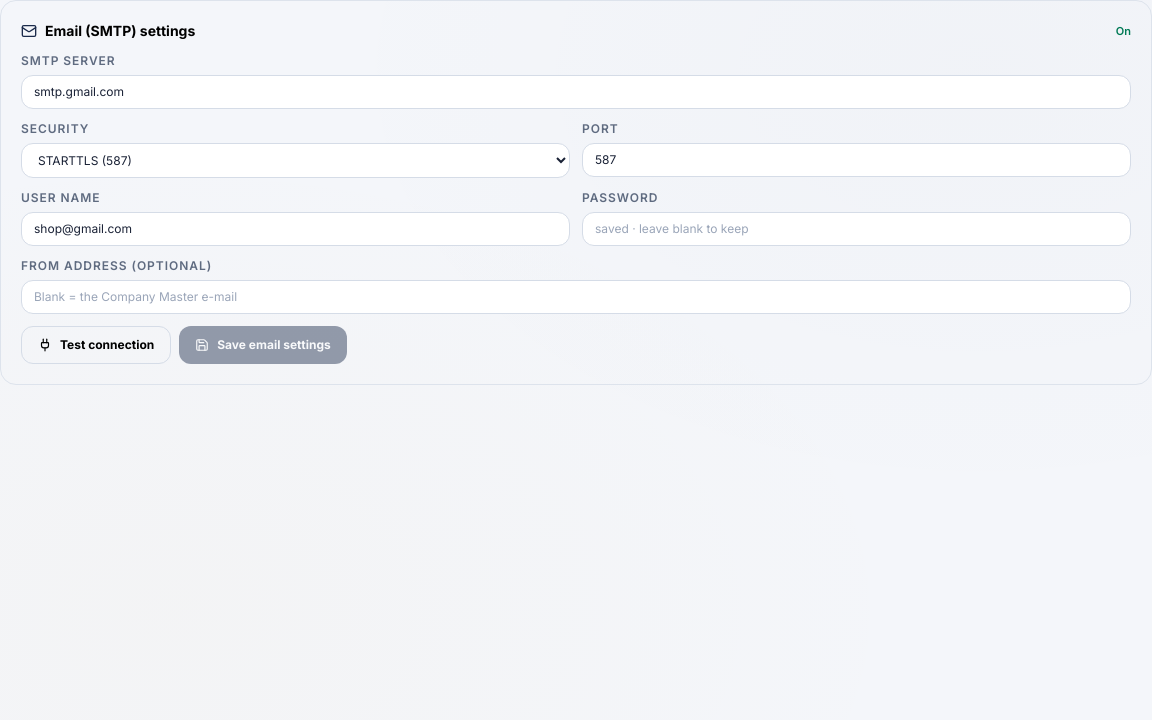
it: SmtpSetting › checks the port and the from address before sending anything
Expected: the field showing "smtp.gmail.com" is shown, [21,75,1131,109]
Type "not-an-email" into the field labelled "From address (optional)" at {"x": 576, "y": 297}, box [21,280,1131,314]
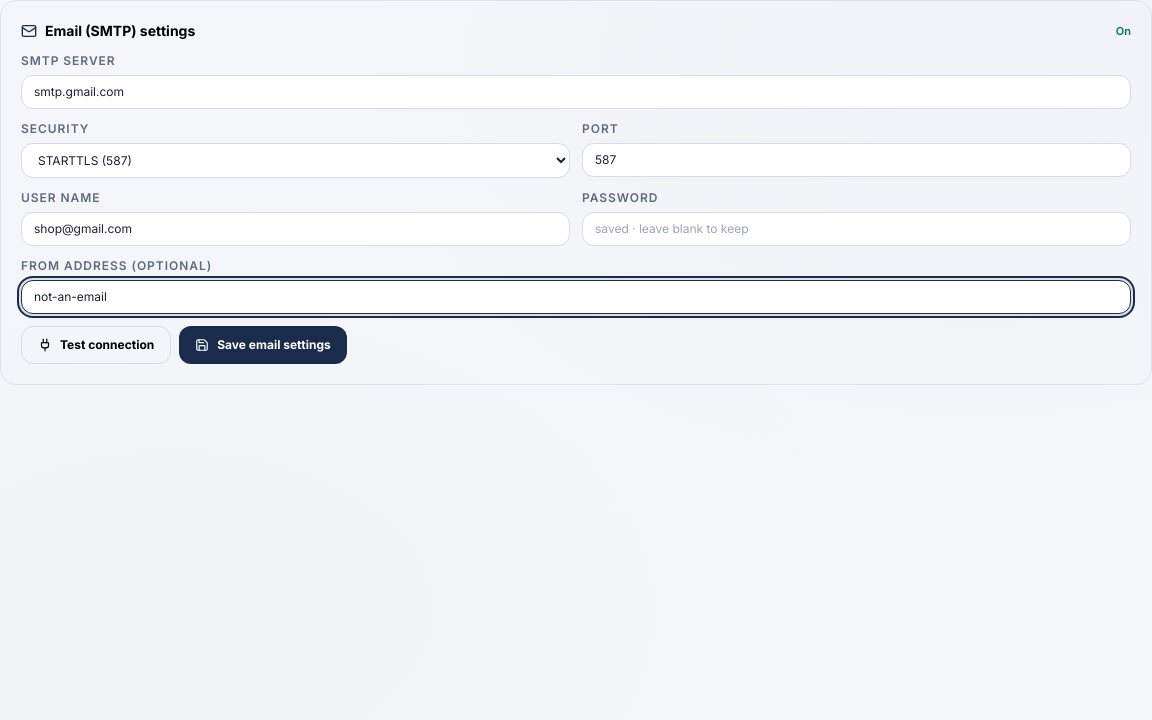
Click the button "Save email settings" at {"x": 263, "y": 345}, box [179,326,347,364]
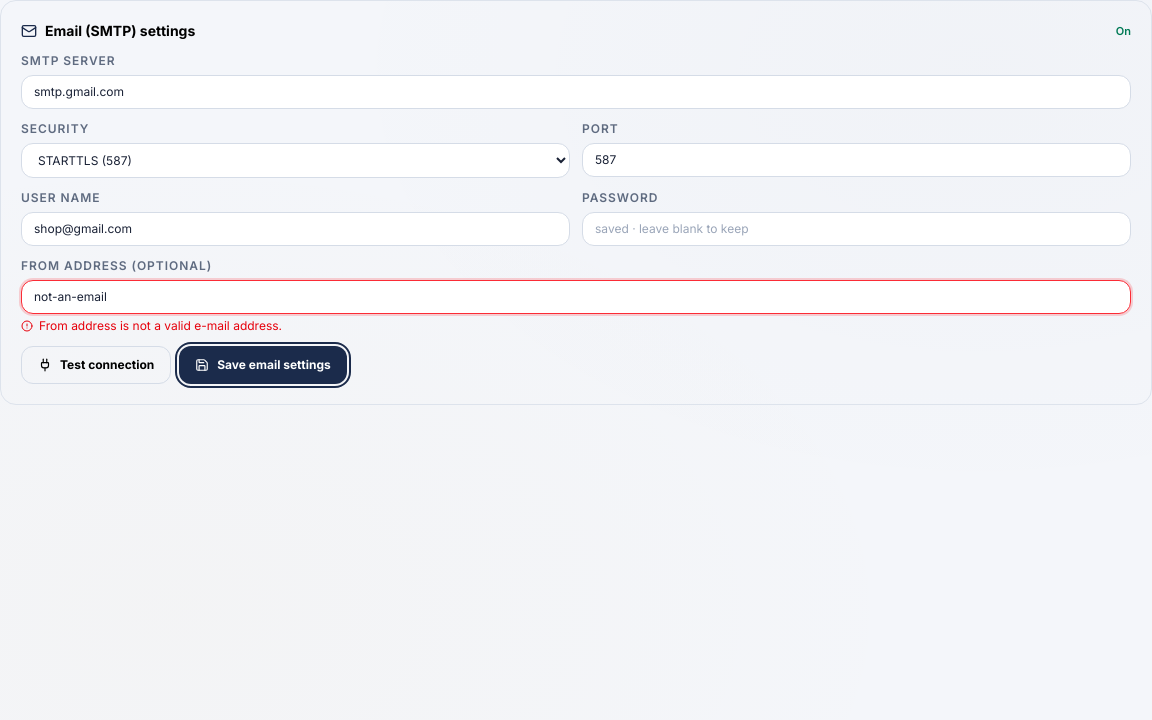
Now the text "From address is not a valid e-mail address." is shown, box [21,318,282,333]
